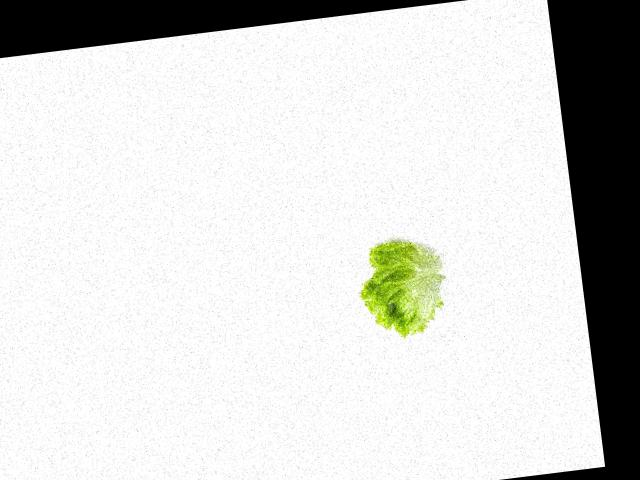lettuce: (356, 226, 454, 344)
